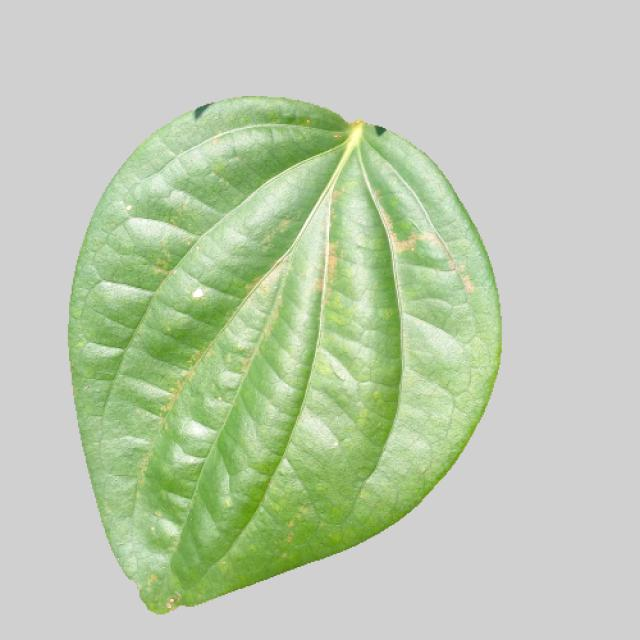healthy: (60, 89, 518, 618)
